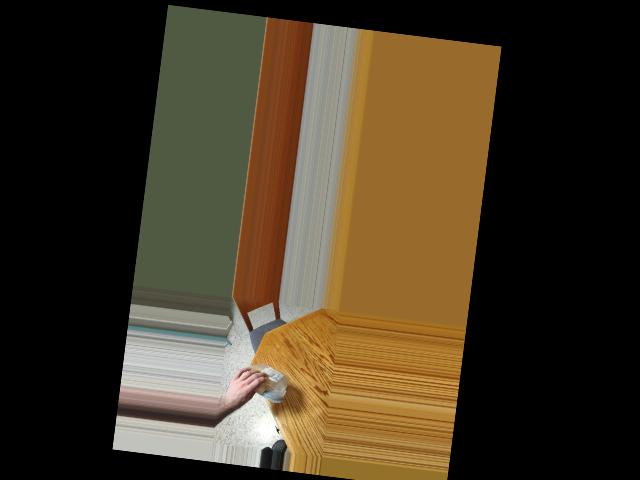cheese: (245, 364, 285, 398)
